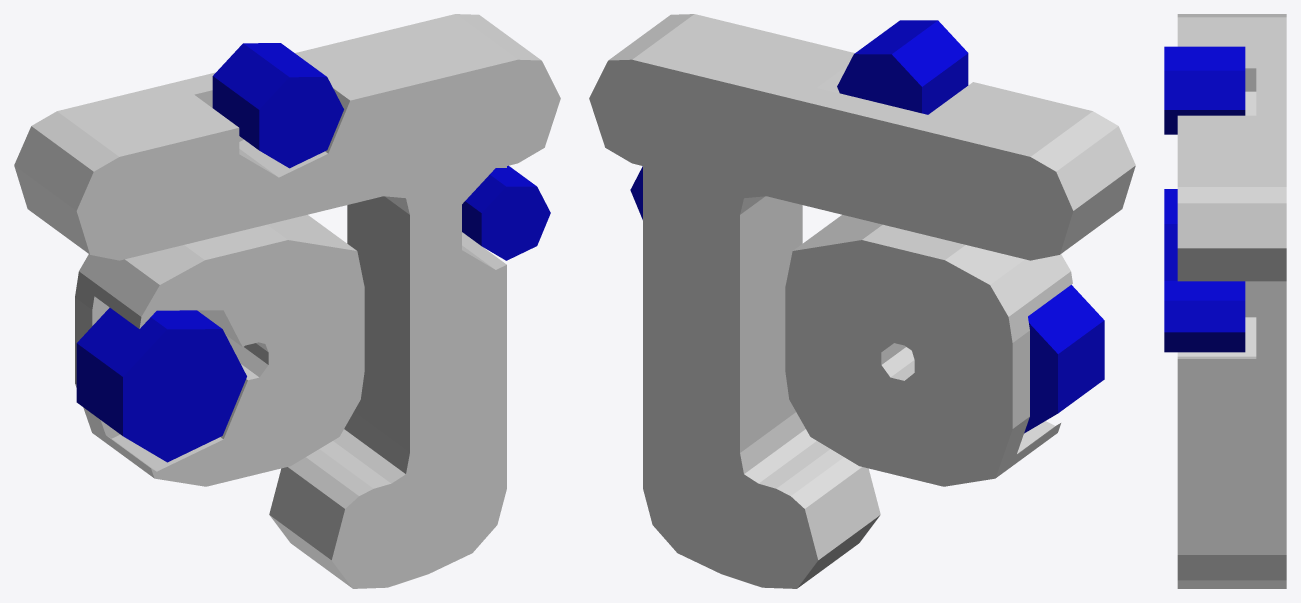
File: Ch_Lite_China_可_01.fbx
3 views of the same model, side by side, from view 1: azimuth 30°, elevation 25°; view 2: azimuth 150°, elevation 25°; view 3: azimuth 270°, elevation 25° (orthographic). The views are drawn at different scales.
Visible parts, largest first — view 1: sphere1; view 2: sphere1; view 3: sphere1.
Boxes of the visible parts, <box> form: sphere1: <box>14,14,560,588</box>; sphere1: <box>589,14,1135,588</box>; sphere1: <box>1164,14,1286,588</box>.
Size of the model in its own units: 0.8945 by 0.9565 by 0.2242.
